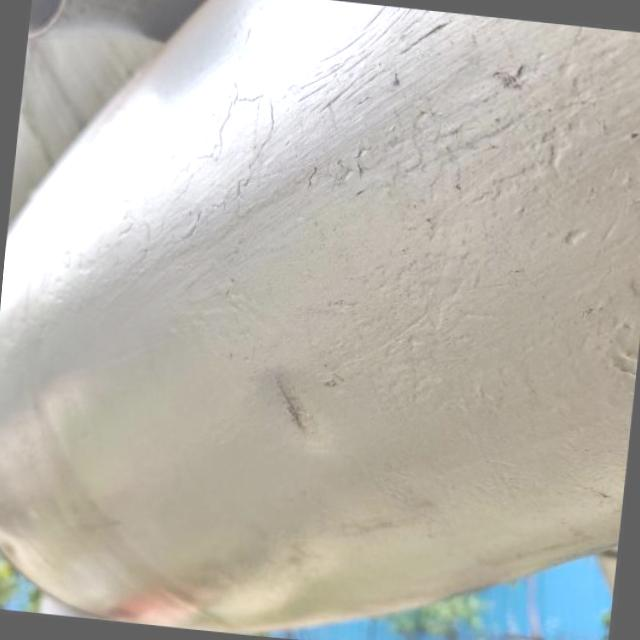dent: (247, 348, 347, 454)
